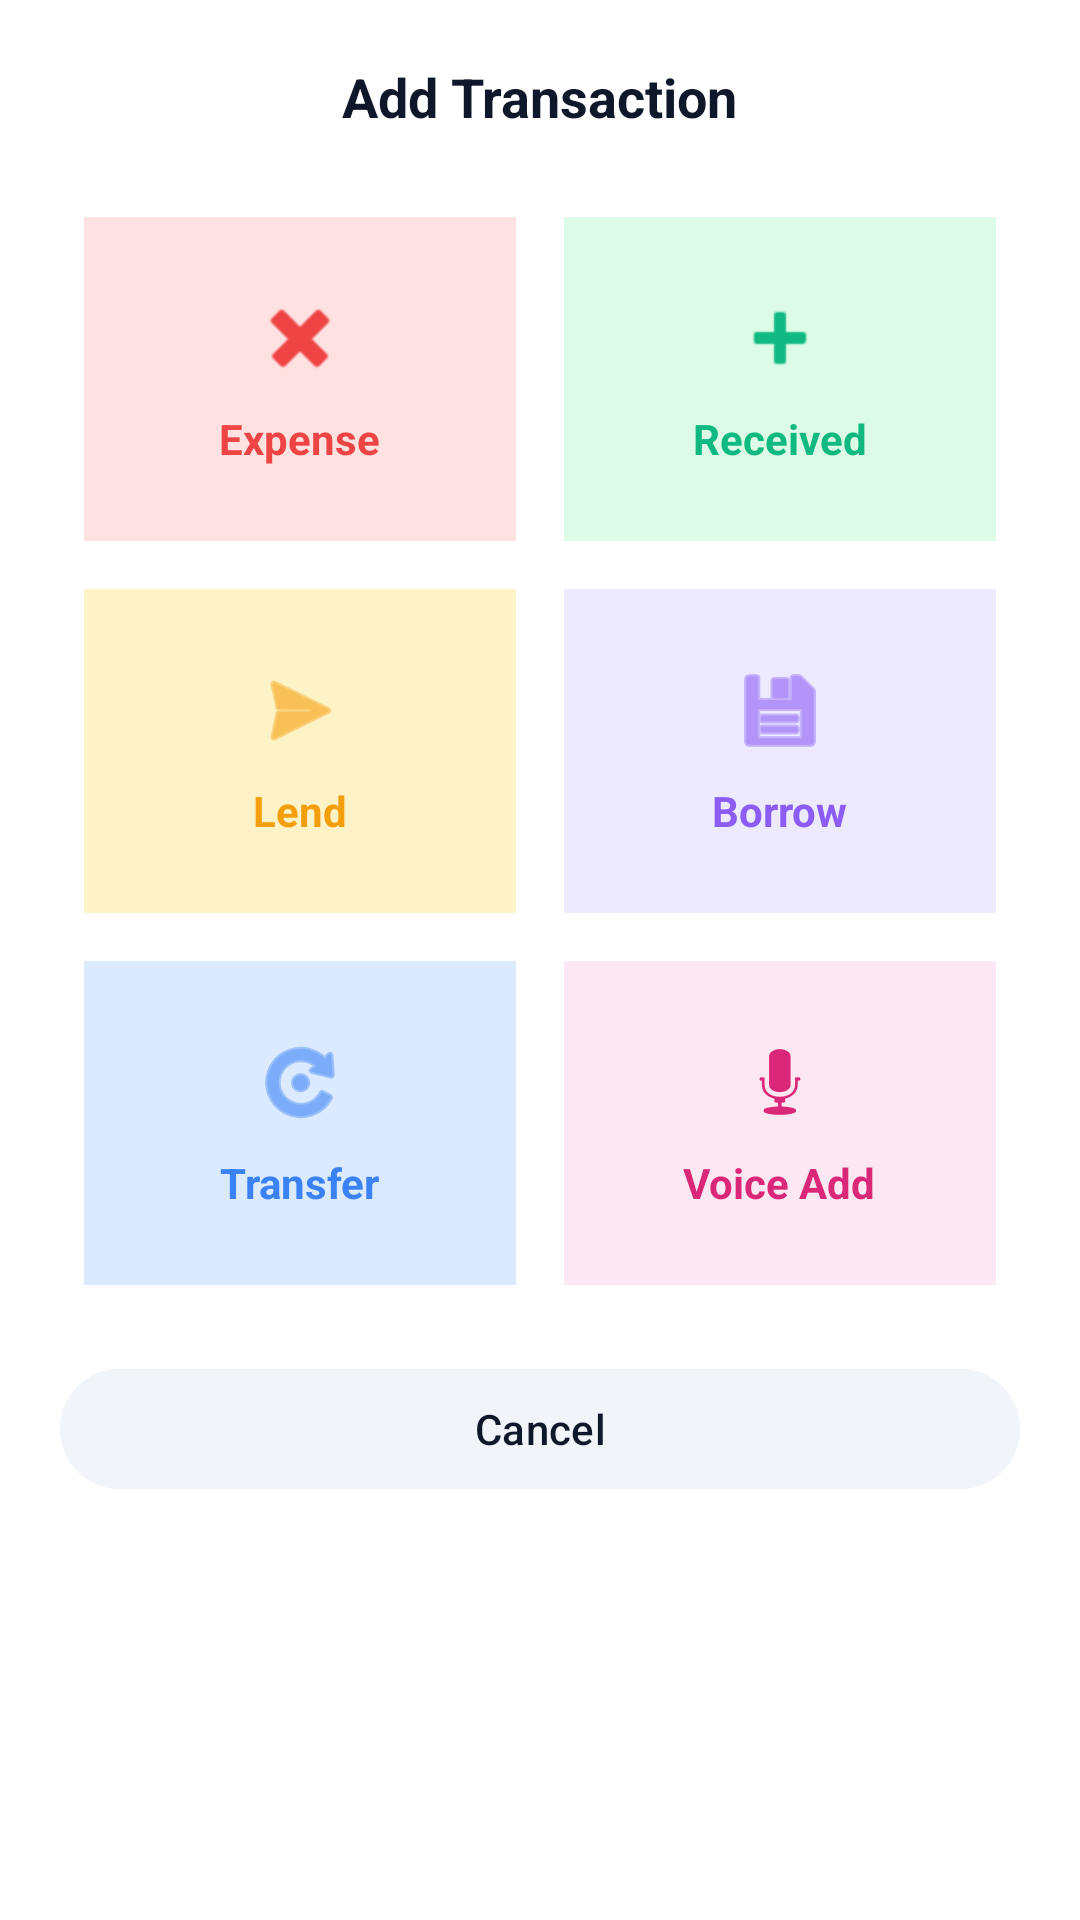

Icons on this 1080 x 1920 Android screen, each with the point to tap as (x,y):
add: (780,338)
delete: (300,338)
rotate: (300,1082)
save: (780,710)
send: (301,710)
speak now: (780,1082)
